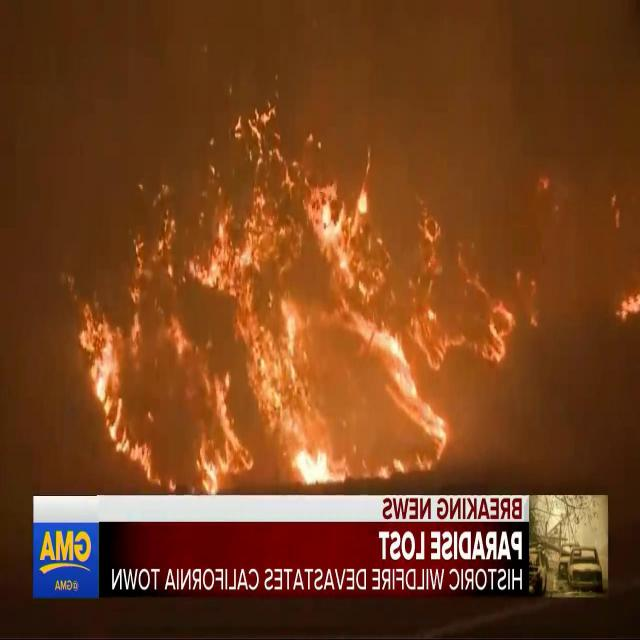fire: (68, 95, 520, 495)
